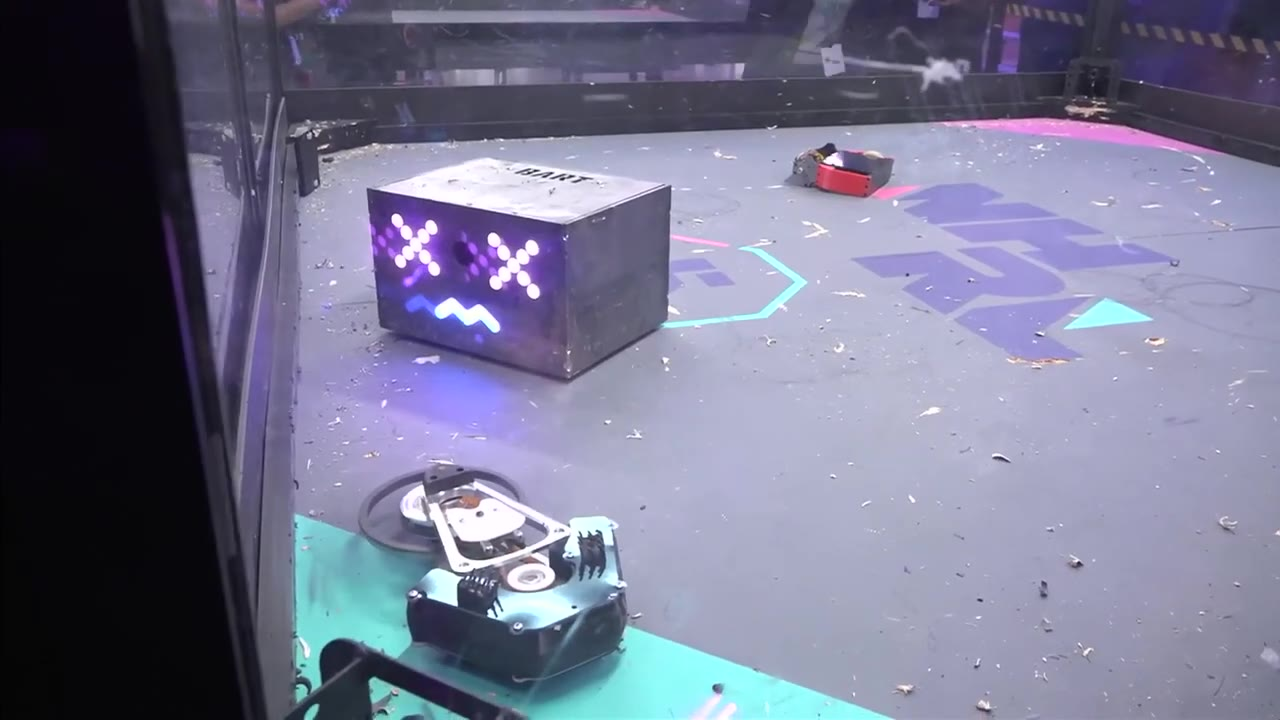combatbot: (360, 463, 627, 690), (289, 637, 514, 720), (785, 143, 897, 198)
housebot: (367, 154, 672, 385)
